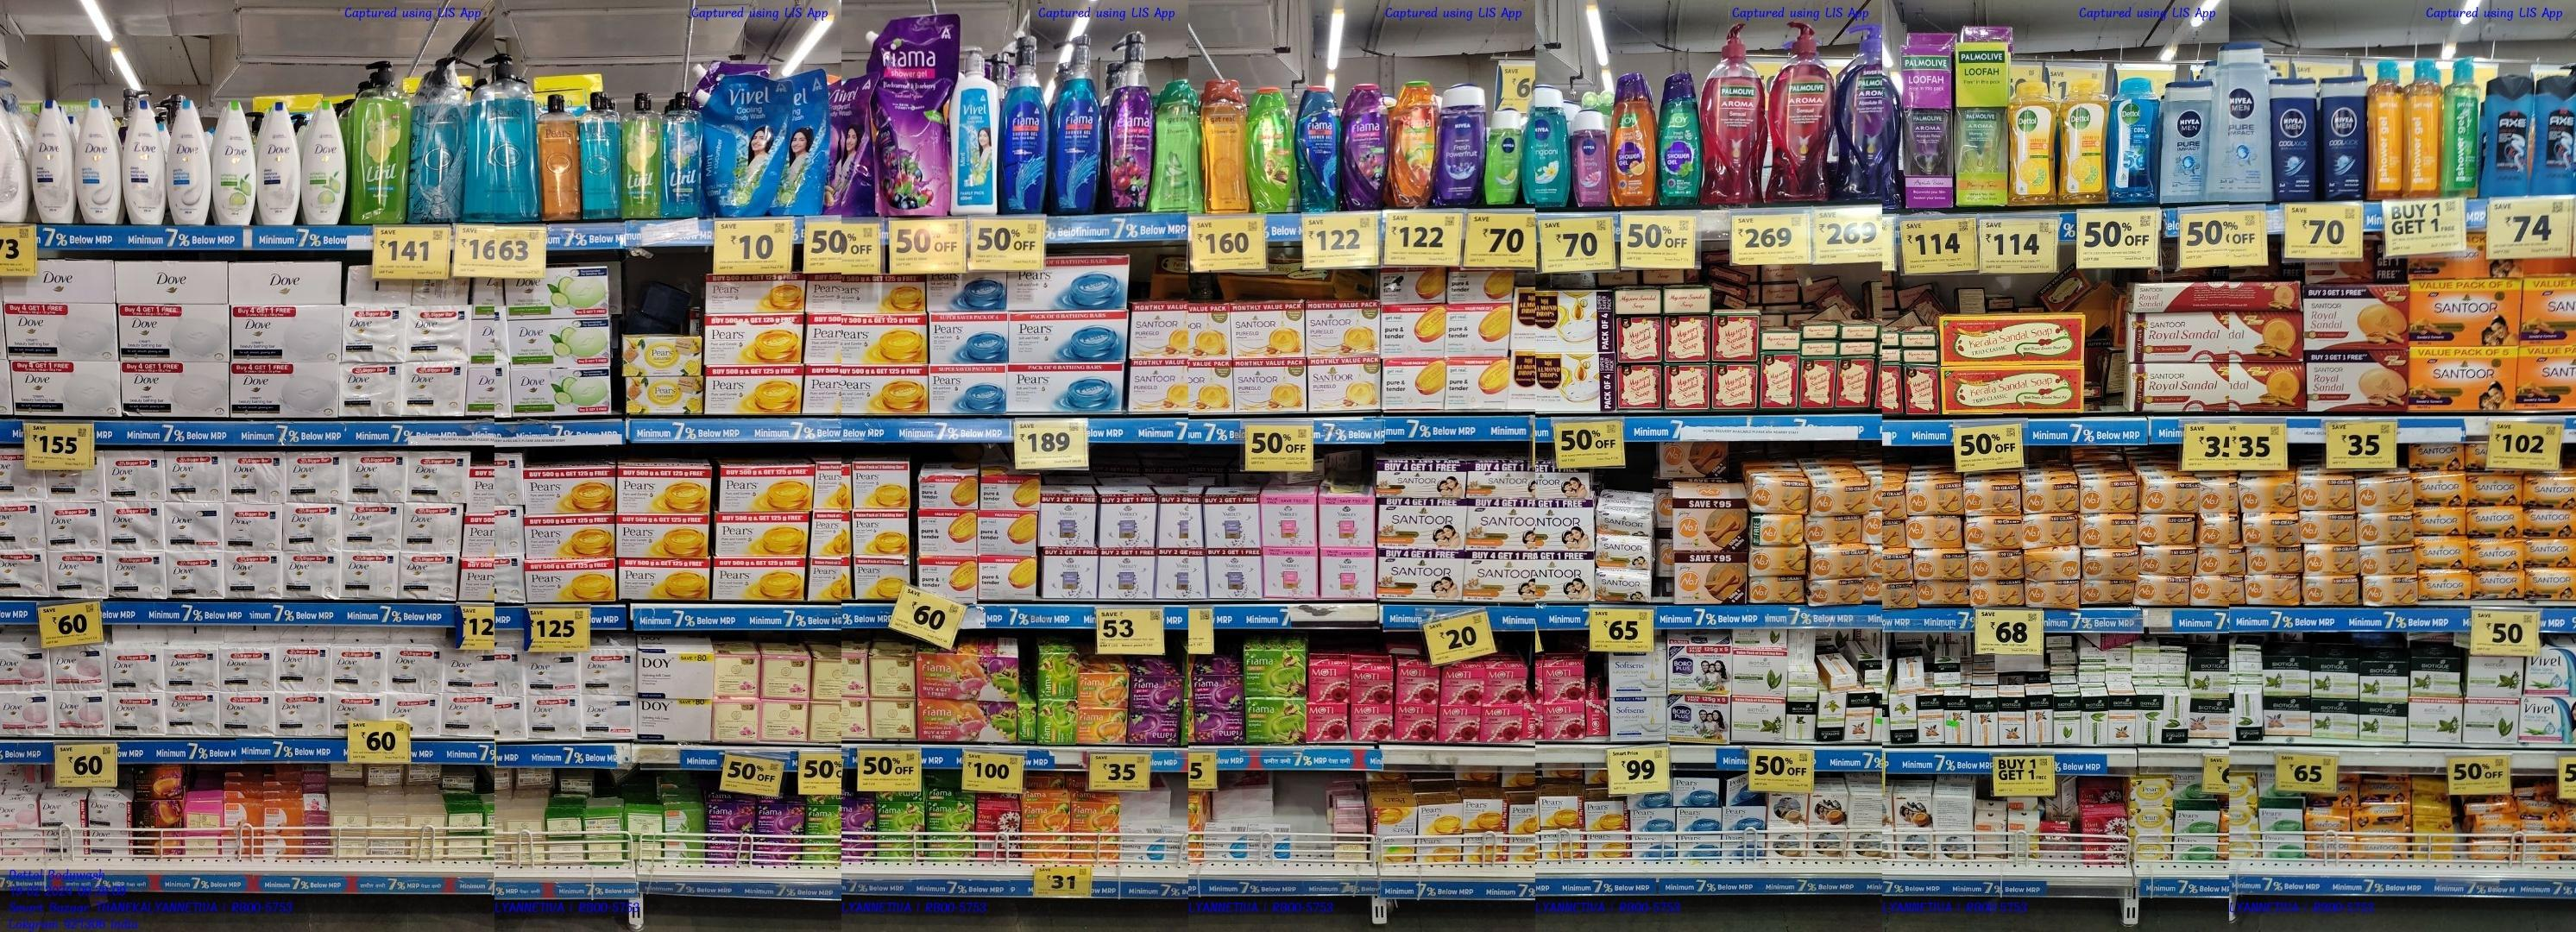Dettol_Bodywash_Cool: (2109, 77, 2154, 202)
Dettol_Bodywash_Refresh: (2009, 81, 2057, 207), (2060, 79, 2108, 204)
Dove_Deep_Moisture_Body_Wash_250ML: (256, 100, 302, 227), (31, 99, 76, 225), (123, 99, 168, 225)
Dove_Gentle_Exfoliating_Body_Wash_250ML: (77, 99, 120, 225), (169, 100, 210, 225)
Dove_Refreshing_Body_Wash_250ML: (212, 99, 256, 225), (304, 99, 345, 224)
Fiama_Shower_Gel_Lemongrass_and_Jojoba_250ML: (1249, 87, 1295, 212)
Fiama_Shower_Gel_Peach_and_Avocado_250ML: (1388, 82, 1433, 205)
Joy_Shower_Gel_Mandarin_and_Lemongrass_250ML: (1610, 76, 1656, 207)
Joy_Shower_Gel_Mint_and_Eucalyptus_250ML: (1658, 74, 1702, 207)
Liril_Cooling_Mint_Body_Wash_250ML: (660, 94, 700, 217)
Liril_Lime_and_Tea_Tree_Oil_Body_Wash_250ML: (624, 92, 657, 219)
Nivea_Shower_Gel_Frangipani_and_Oil_250ML: (1534, 84, 1572, 209)
Nivea_Shower_Gel_Fresh_Powerfruit_250ML: (1437, 87, 1483, 209)
Pears_Pure_Glycerin_and_Mint_Extracts_Body_Wash_250ML: (580, 92, 621, 220)
